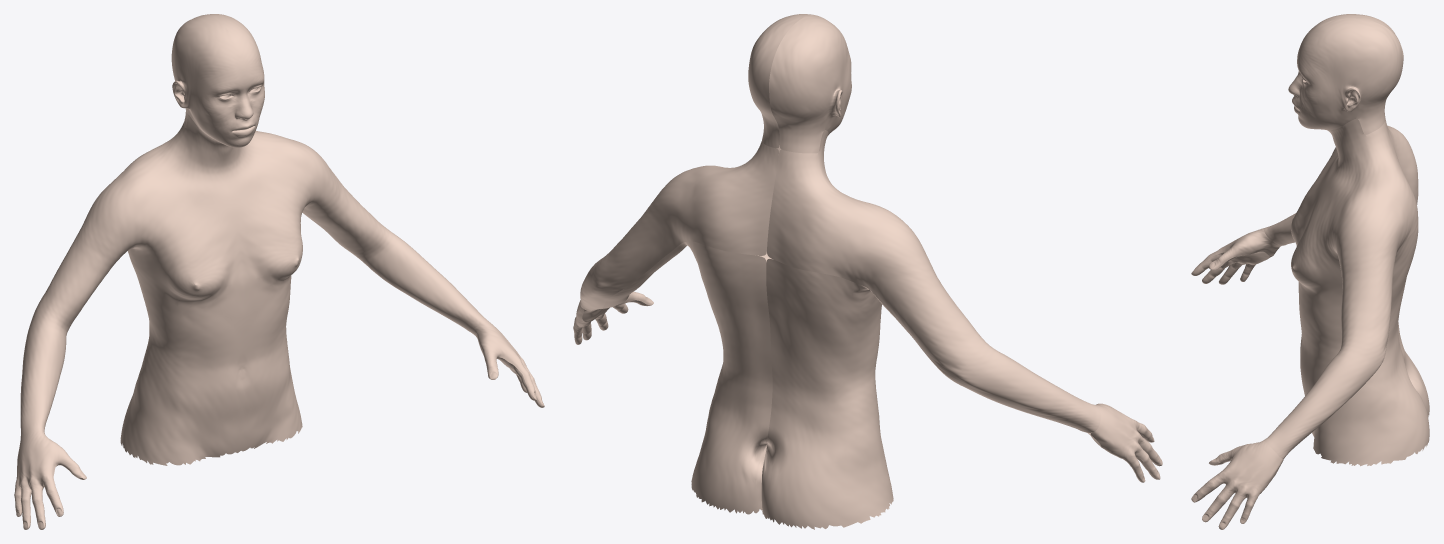
The model's file is _mhdeep.glb.
3 renders of one model, left to right at view 1: azimuth 30°, elevation 25°; view 2: azimuth 150°, elevation 25°; view 3: azimuth 270°, elevation 25°, orthographic. The views are drawn at different scales.
Visible parts, largest first — view 1: Human; view 2: Human; view 3: Human.
Boxes of the visible parts, left/top/right/bottom form: Human: left=14, top=14, right=544, bottom=529; Human: left=573, top=14, right=1162, bottom=529; Human: left=1191, top=14, right=1429, bottom=529.
Bounding box in the file's own units: 1.05 × 0.8124 × 0.4289.
